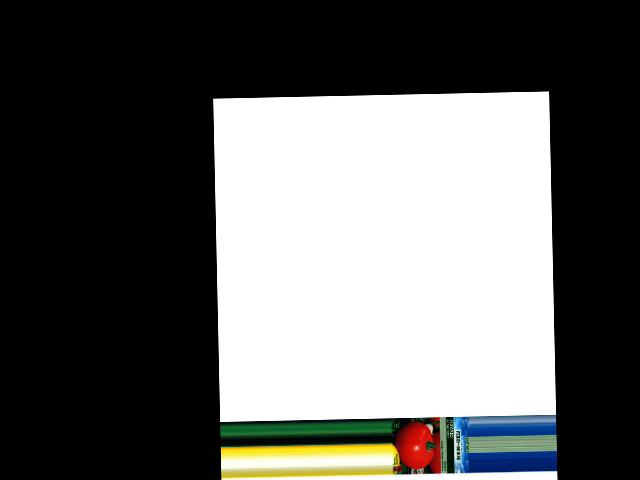tomato: (393, 421, 433, 469)
